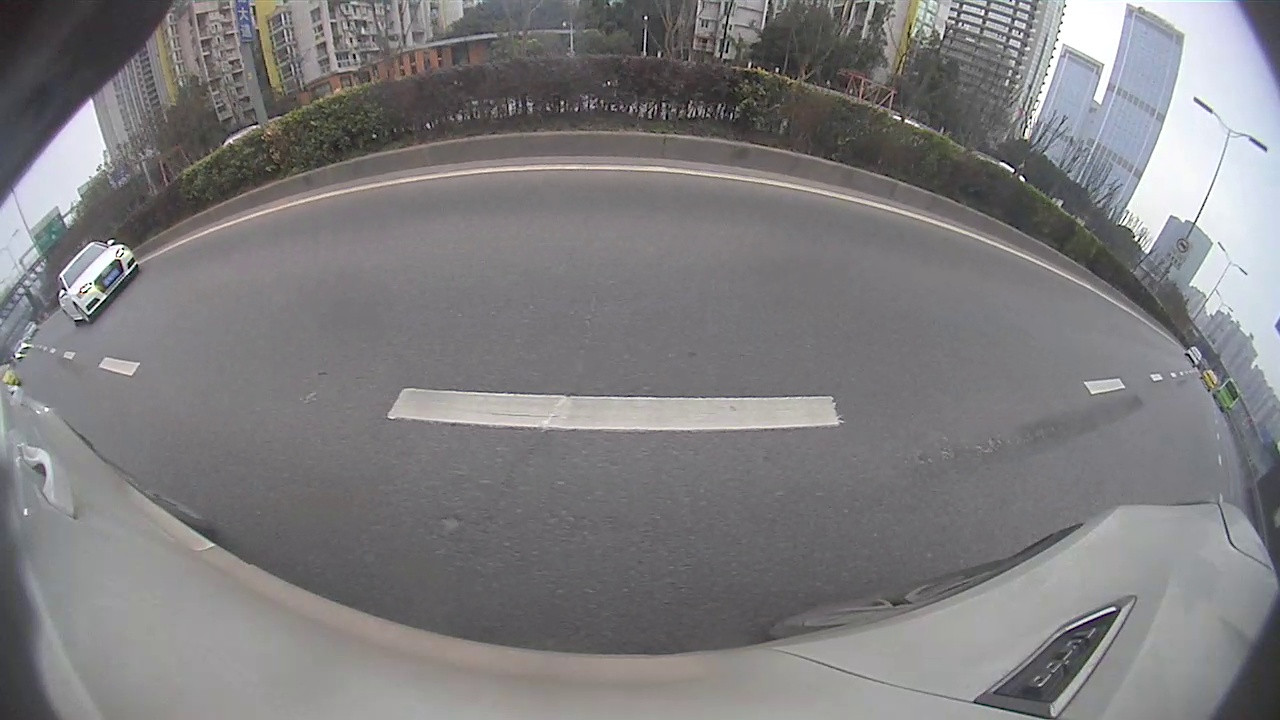car: (53, 238, 140, 328)
front: (75, 304, 94, 324)
